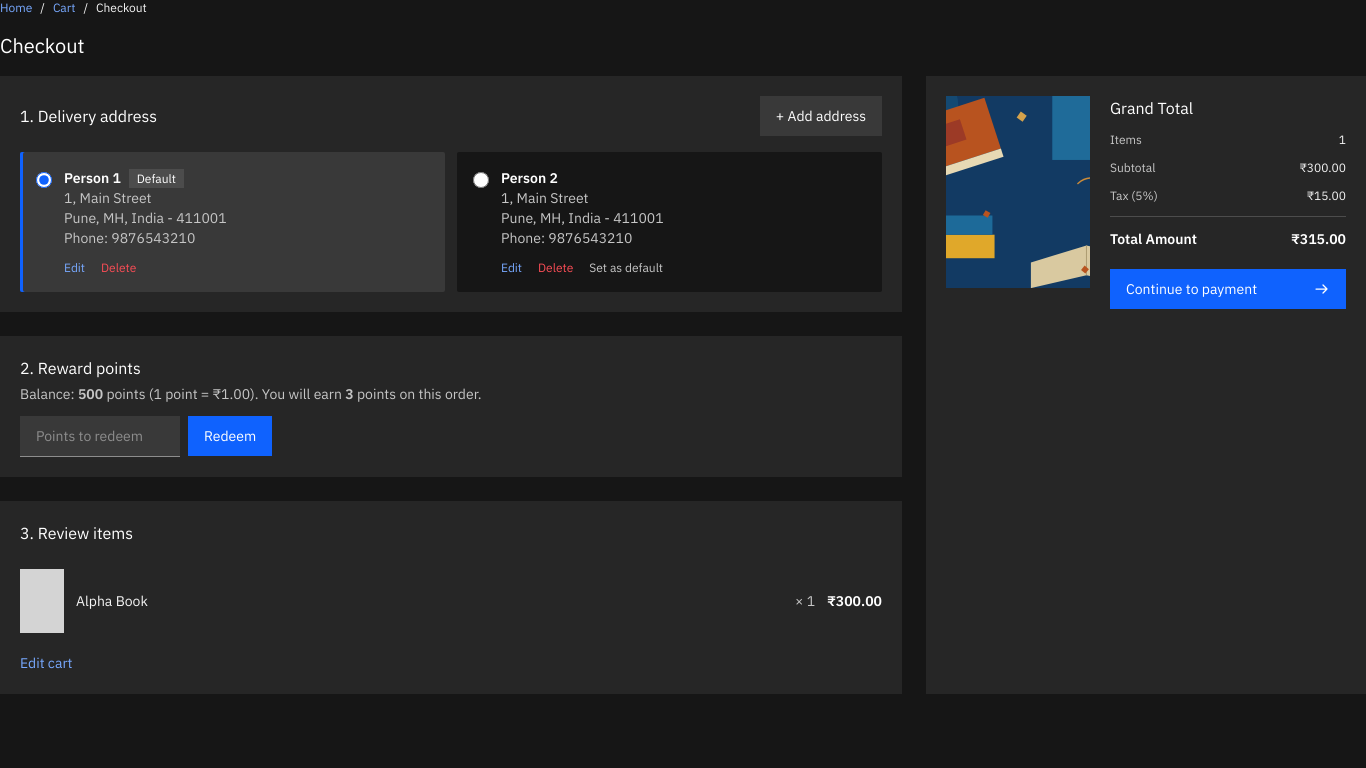
Test: CheckoutPage › deletes an address after confirmation
Expected: the text "Person 2" is shown, left=501, top=169, right=558, bottom=187
Click the button "Delete" below "Person 2" at x=556, y=268, box left=538, top=260, right=573, bottom=276
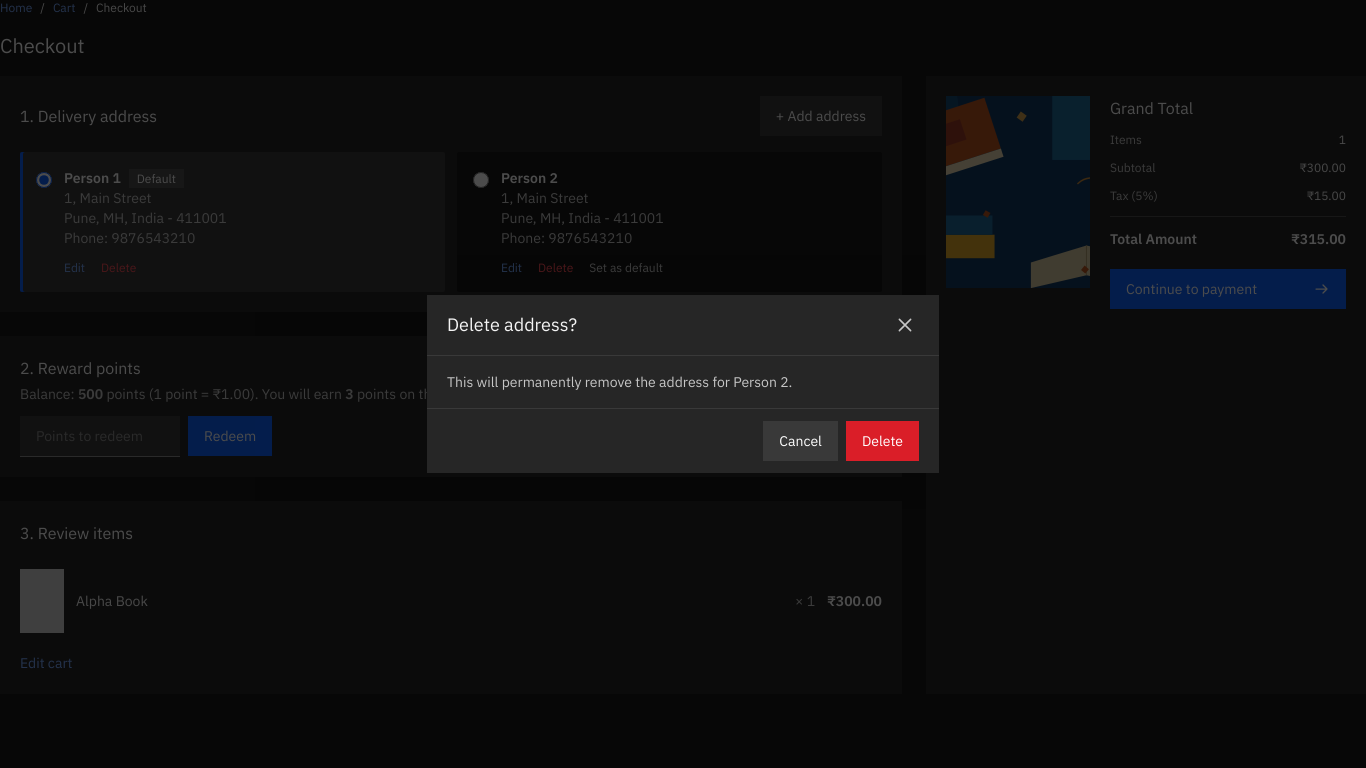
Click the button "Delete" at x=882, y=441, box left=846, top=421, right=919, bottom=461
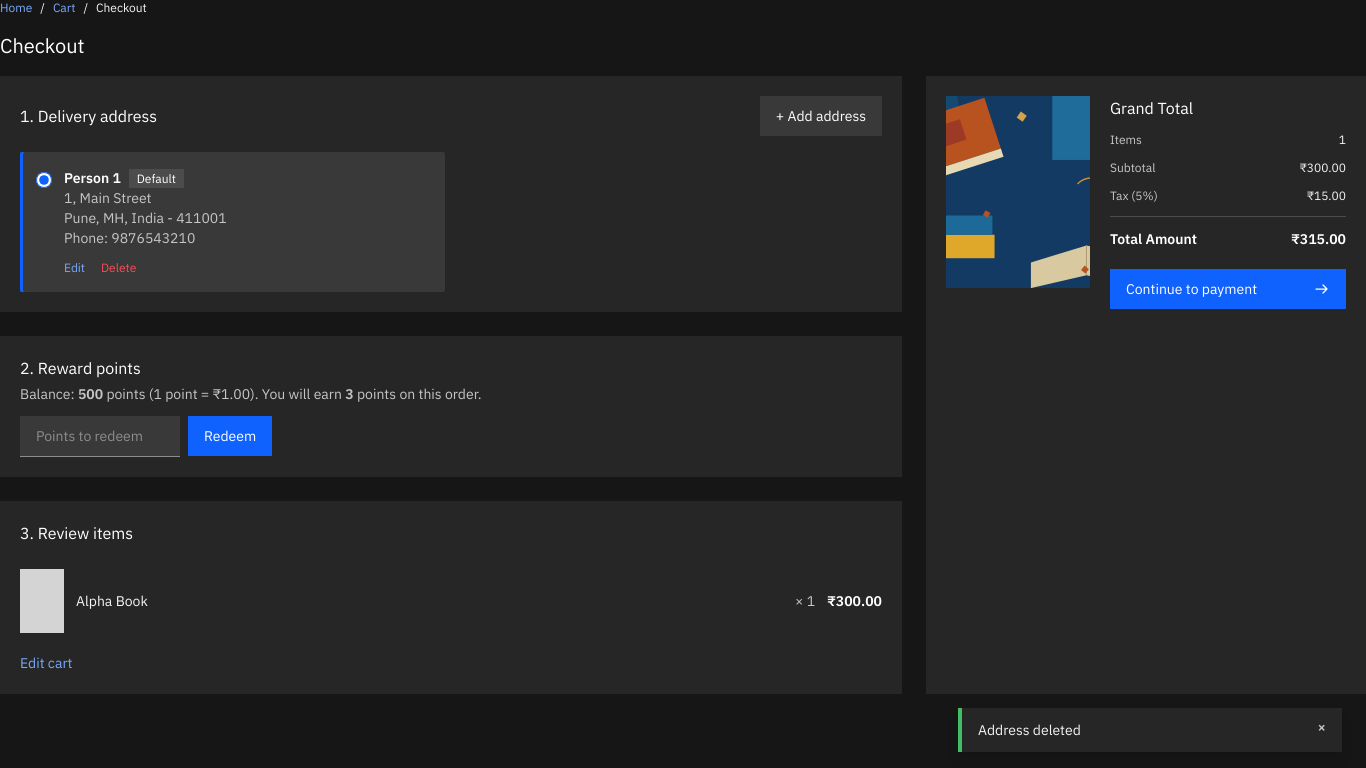
Result: the text "Person 2" is gone
